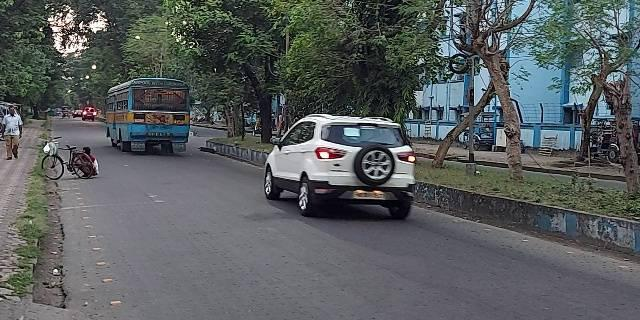Bus: (106, 80, 198, 152)
Car: (264, 114, 423, 208)
Cycle: (42, 142, 96, 181)
